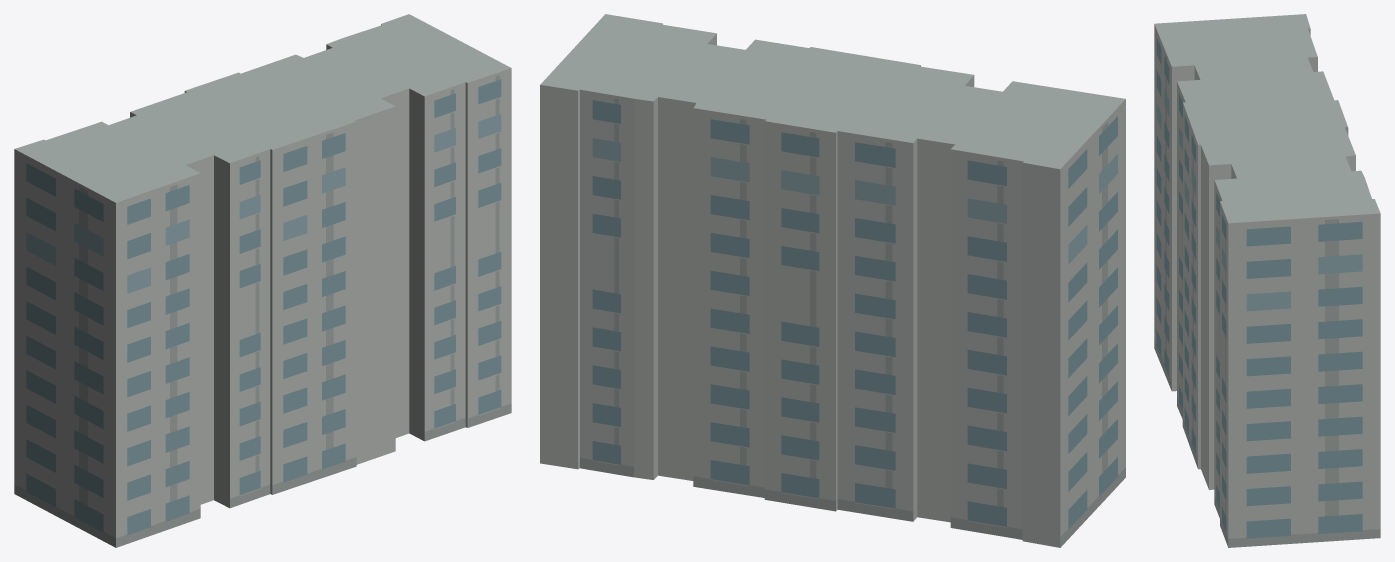
The model's file is survey-upis-32702252.glb.
3 views of the same model, side by side, from view 1: azimuth 30°, elevation 25°; view 2: azimuth 150°, elevation 25°; view 3: azimuth 270°, elevation 25° (orthographic). The views are drawn at different scales.
Parts seen in each view (by area): view 1: survey-upis-32702252.tmp; view 2: survey-upis-32702252.tmp; view 3: survey-upis-32702252.tmp.
Boxes of the visible parts, box(x1,y1,x2,y2) form: survey-upis-32702252.tmp: box(14, 14, 511, 547); survey-upis-32702252.tmp: box(540, 14, 1125, 547); survey-upis-32702252.tmp: box(1154, 14, 1380, 547).
Bounding box in the file's own units: 37.41 × 27.05 × 17.1.
